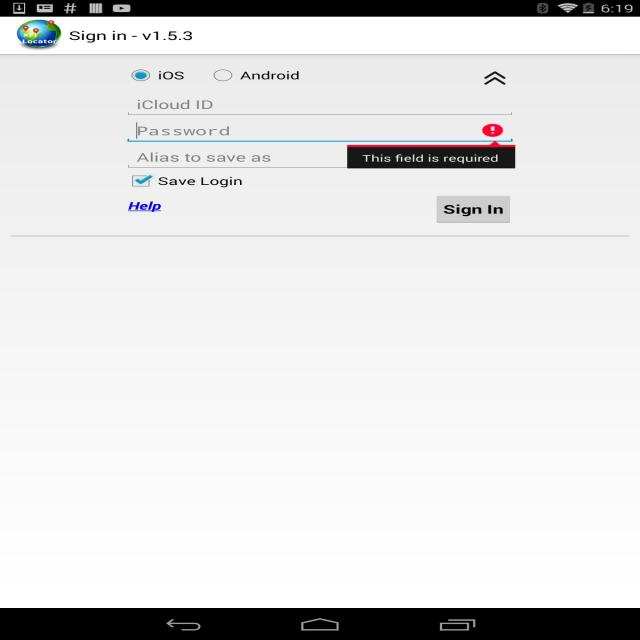button: (438, 197, 509, 221), (130, 67, 153, 84), (130, 173, 152, 189), (213, 70, 233, 82)
field: (131, 94, 514, 115), (127, 120, 512, 140), (128, 147, 512, 165)
heading: (67, 28, 196, 43)
image: (16, 18, 61, 50)
label: (134, 151, 276, 163), (133, 96, 218, 111), (157, 175, 245, 189), (132, 125, 234, 136), (240, 70, 303, 84), (156, 67, 188, 83)
link: (127, 198, 164, 214)
text: (361, 152, 505, 166)
